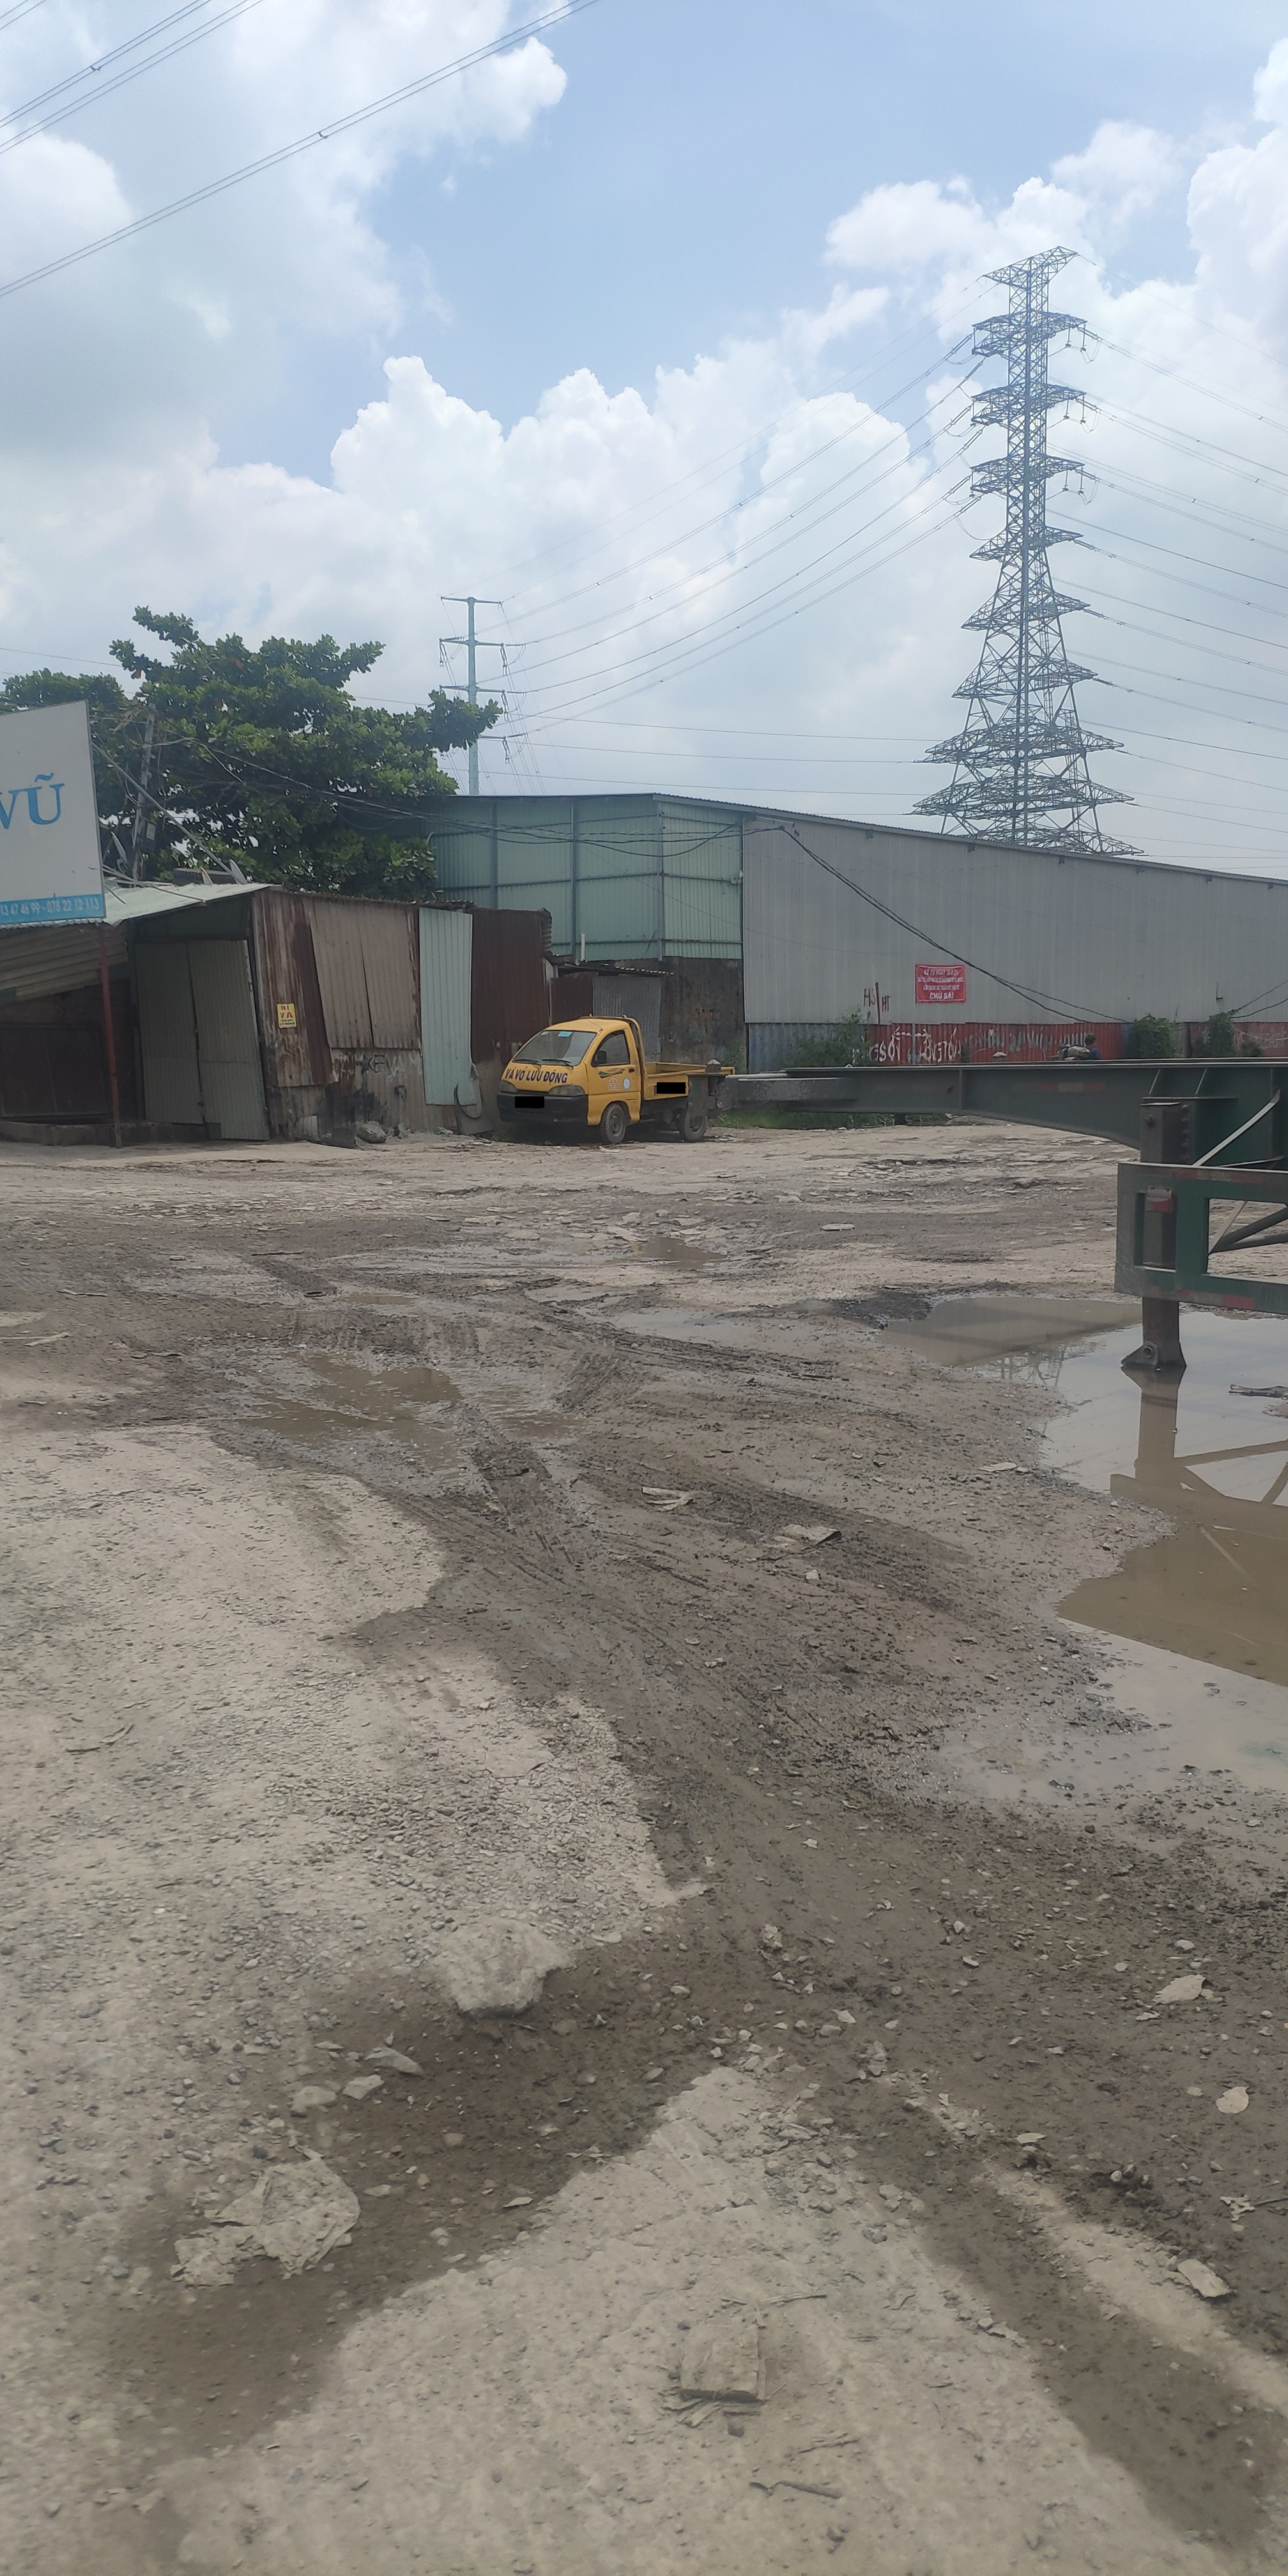hole: (204, 1311, 514, 1479), (793, 1175, 1045, 1219), (636, 1211, 751, 1286), (859, 1150, 994, 1173), (540, 1178, 651, 1203), (422, 1181, 514, 1203)
